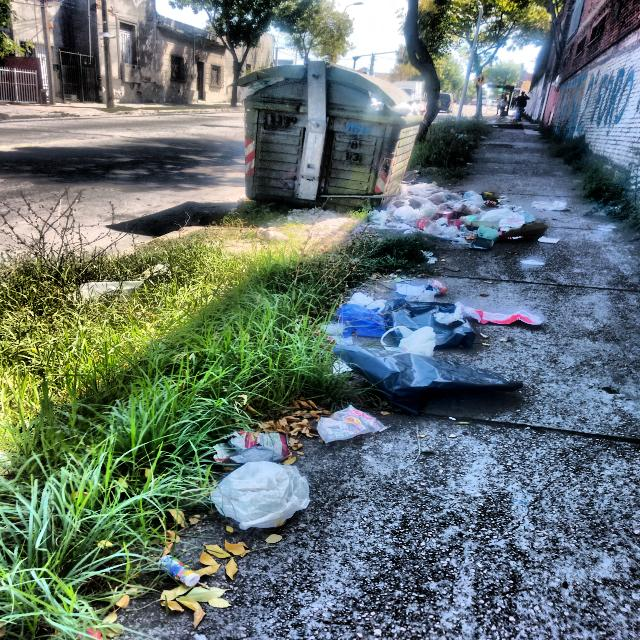garbage: (142, 410, 380, 625), (338, 184, 546, 386)
